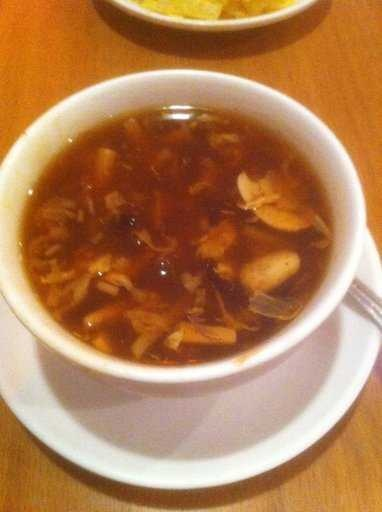soup: (24, 95, 363, 357)
